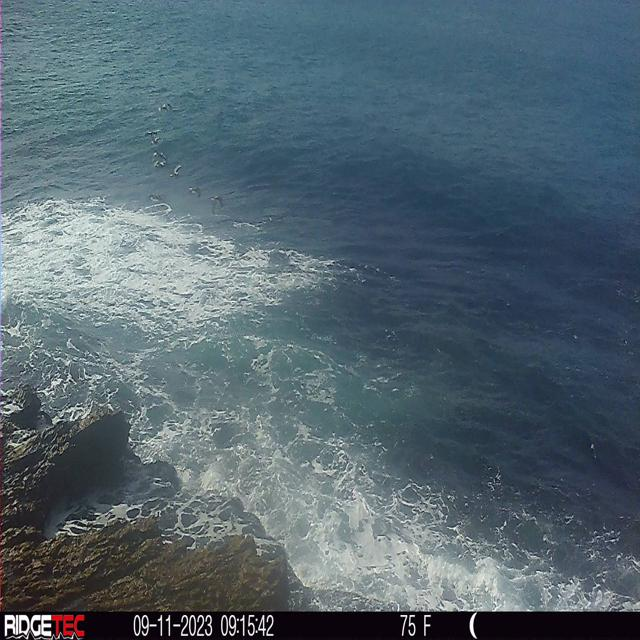bird: (170, 164, 181, 178)
